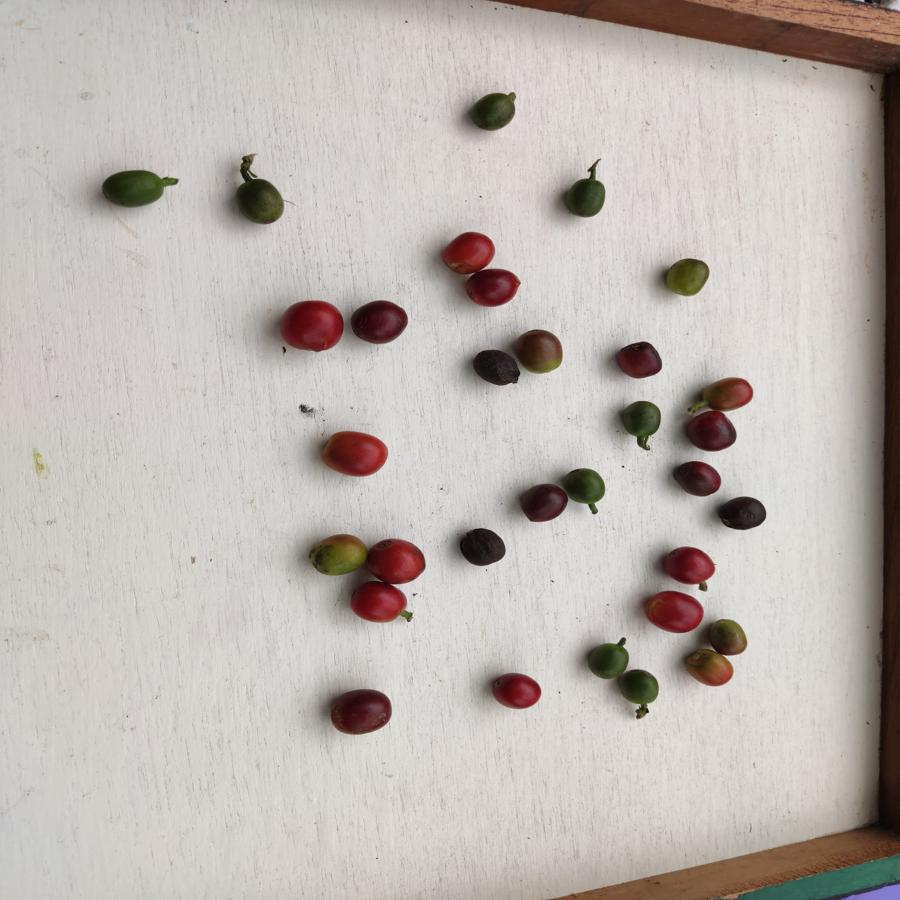Inmaduro: (308, 529, 366, 577), (100, 169, 167, 209), (234, 176, 286, 227), (518, 326, 566, 377), (683, 645, 737, 686), (618, 665, 664, 711), (587, 638, 632, 683), (562, 175, 606, 220), (471, 90, 517, 132), (664, 256, 710, 297), (565, 465, 609, 507), (701, 376, 753, 410), (620, 399, 663, 440), (708, 615, 747, 657)
Maduro: (277, 299, 345, 352), (317, 430, 390, 478), (365, 535, 427, 586), (641, 588, 704, 634), (349, 581, 410, 628), (659, 544, 718, 584), (441, 231, 497, 273), (491, 671, 543, 711)
Sobremaduro: (328, 687, 394, 738), (348, 301, 413, 343), (685, 410, 737, 455), (611, 338, 665, 381), (457, 525, 506, 566), (466, 269, 520, 306), (671, 459, 722, 497), (473, 347, 522, 386), (520, 483, 567, 522), (718, 496, 766, 529)
